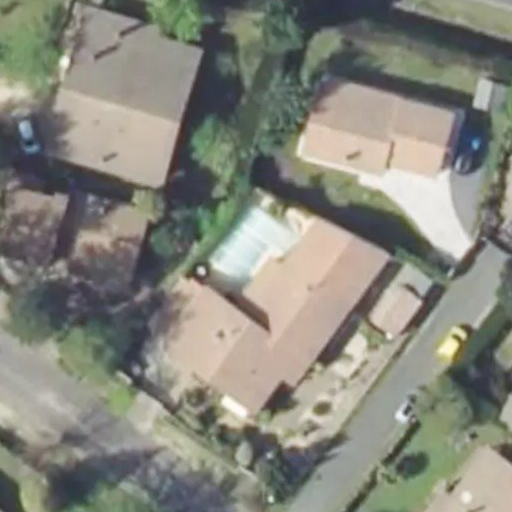pool: (211, 207, 293, 294)
